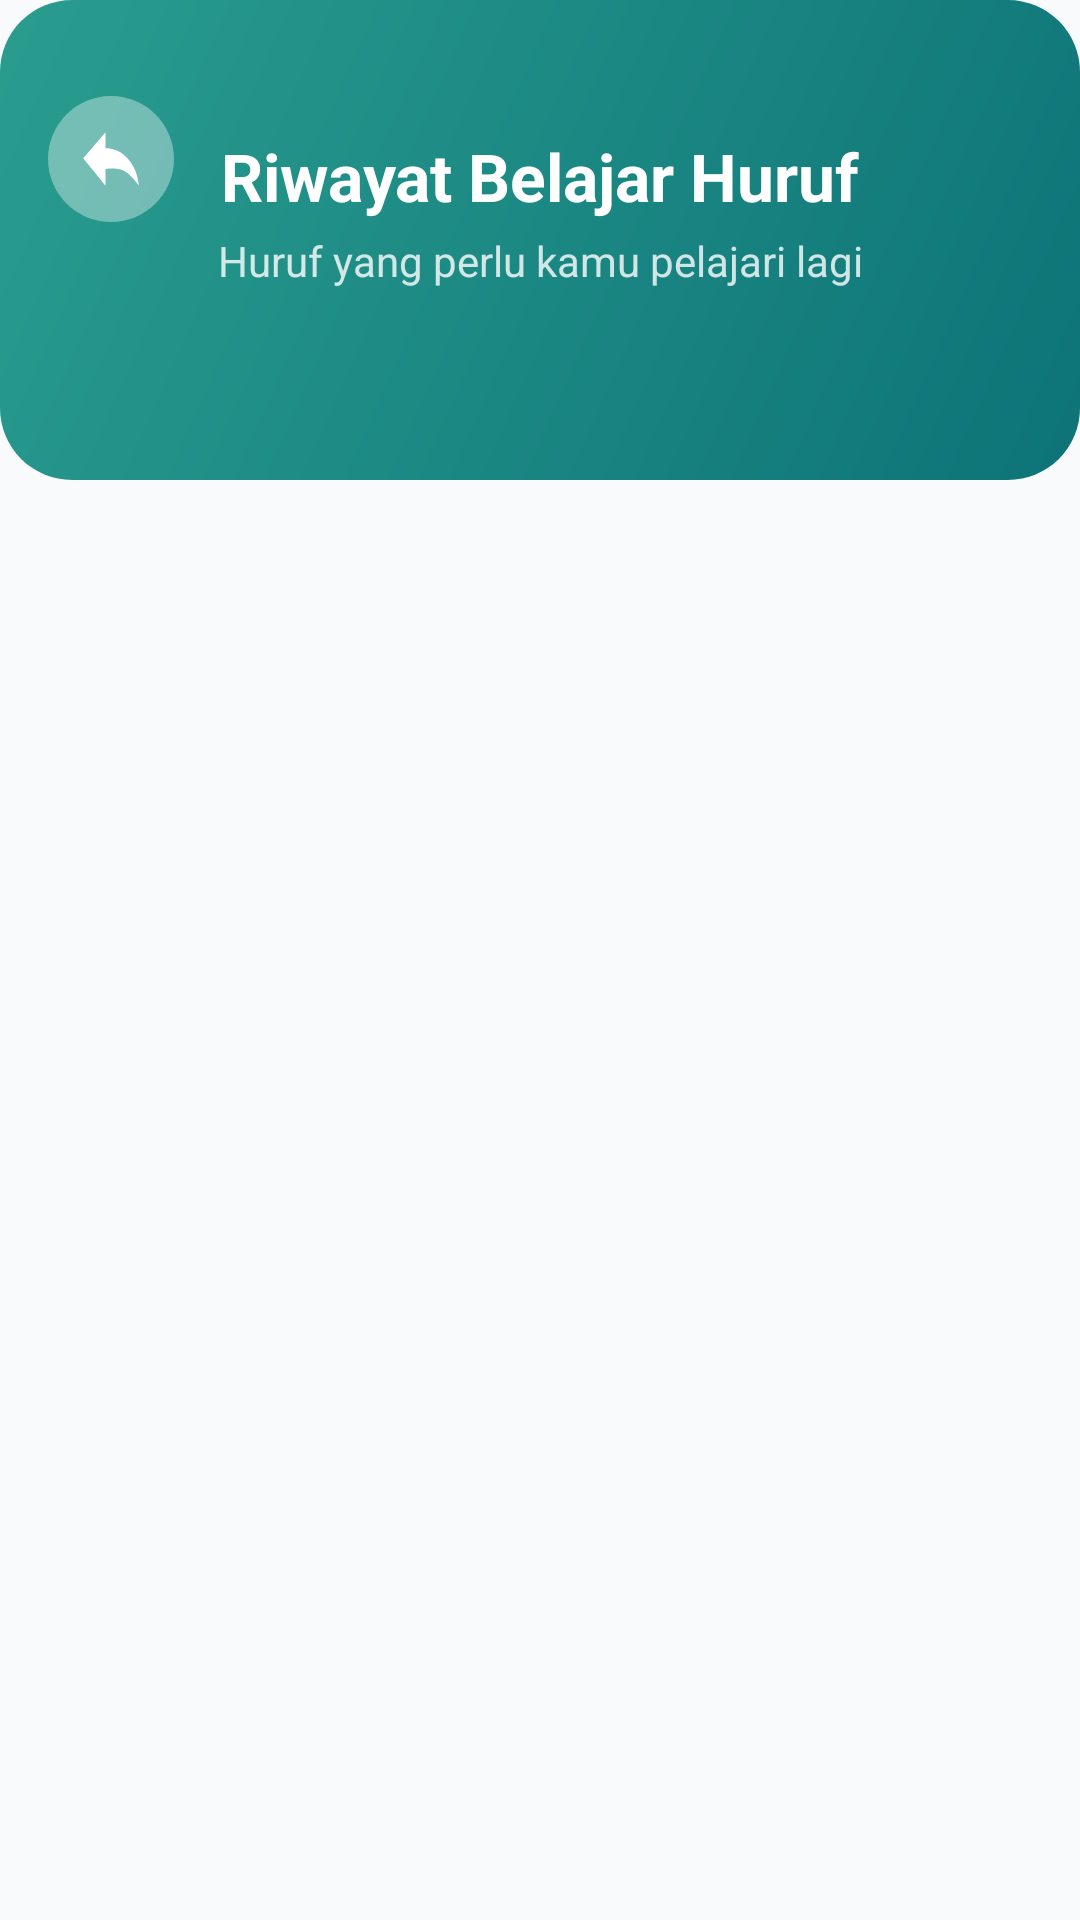

Where to tap for icons on this 1080×1920 app screen, as point (x, y):
back: point (111, 159)
